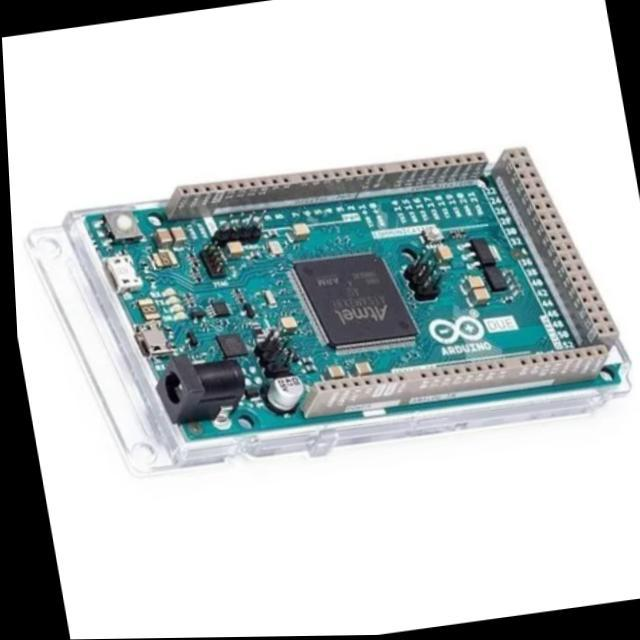Arduino-Due: (85, 149, 626, 440)
